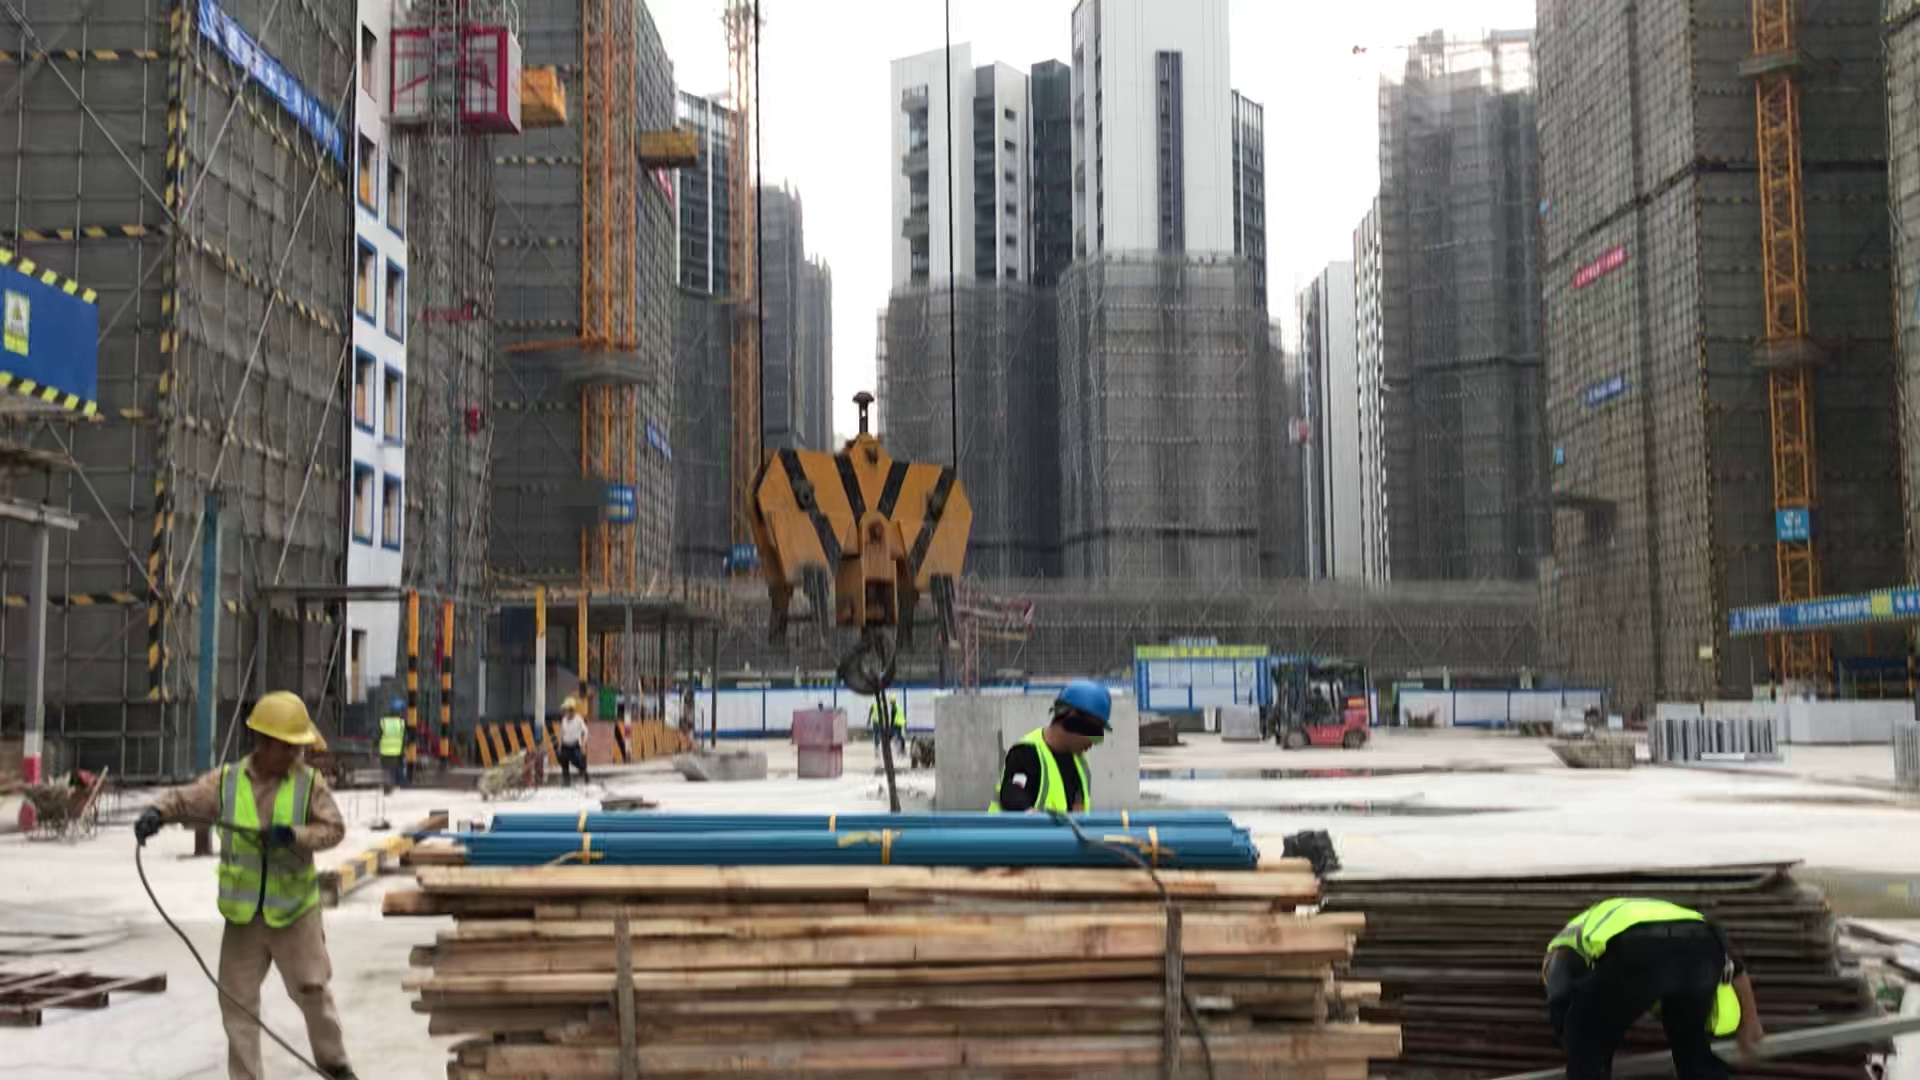board: (1321, 860, 1920, 1079)
handcart: (22, 762, 119, 838)
helmet: (231, 689, 332, 760), (1052, 664, 1124, 727), (380, 693, 411, 716), (560, 690, 580, 715), (883, 687, 902, 705)
hook: (731, 364, 989, 675)
hopper: (679, 735, 773, 798), (1548, 731, 1640, 766)
person: (155, 680, 355, 1080), (1529, 891, 1750, 1080), (1003, 667, 1101, 830), (376, 695, 412, 800), (558, 697, 592, 783), (1304, 679, 1330, 733), (884, 686, 905, 751)
vest: (212, 763, 324, 917), (1554, 894, 1719, 951), (1022, 735, 1095, 813), (383, 713, 403, 748), (883, 709, 905, 727)
wood: (384, 870, 1398, 1079)
